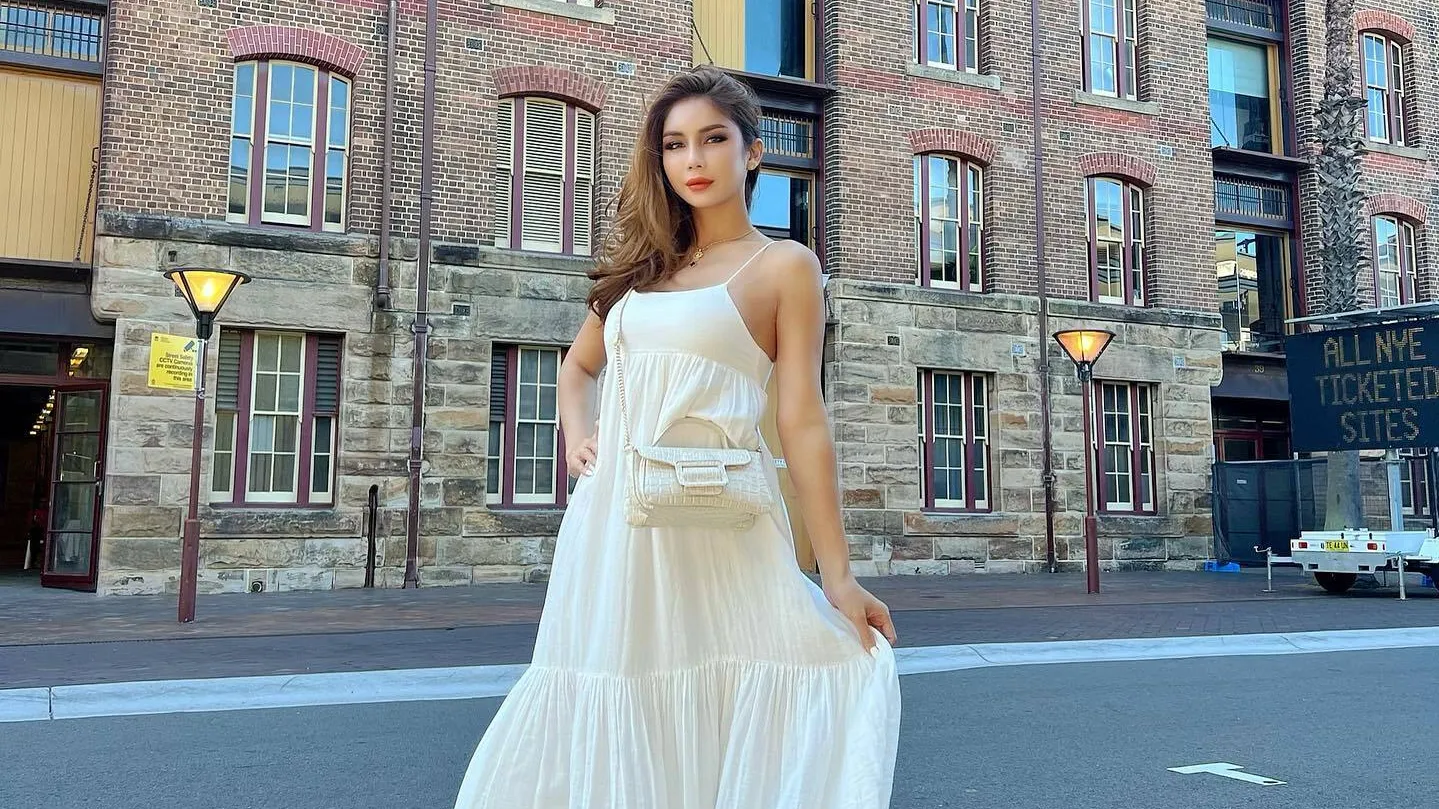person: (456, 62, 905, 809)
